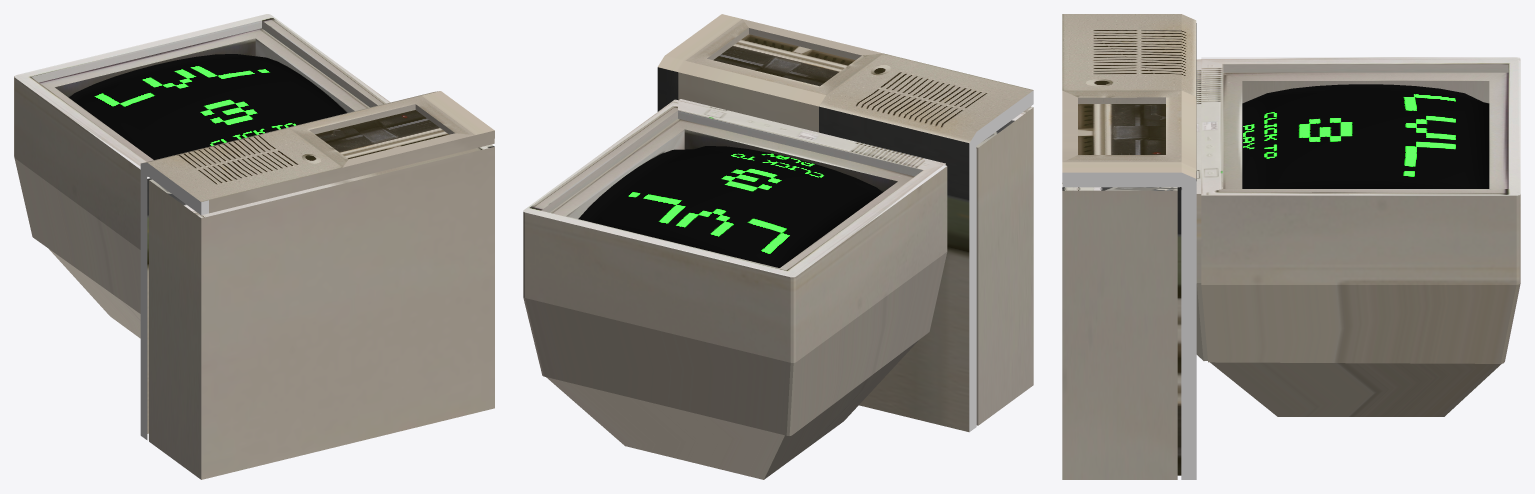
The model's file is lvl3.glb.
3 views of the same model, side by side, from view 1: azimuth 30°, elevation 25°; view 2: azimuth 150°, elevation 25°; view 3: azimuth 270°, elevation 25° (orthographic). The views are drawn at different scales.
Visible parts, largest first — view 1: level-3 pc; view 2: level-3 pc; view 3: level-3 pc.
Part boxes in pixels (left/top/right/bottom): level-3 pc: left=14, top=14, right=494, bottom=479; level-3 pc: left=523, top=14, right=1033, bottom=479; level-3 pc: left=1062, top=14, right=1520, bottom=479.
Size of the model in its own units: 1.15 by 1.04 by 1.41.
2 materials, 2 textured.
